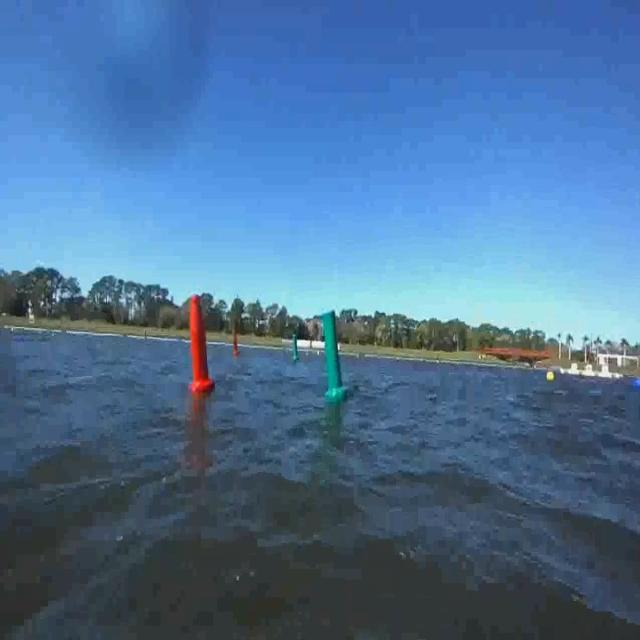blue-buoy: (632, 377, 640, 394)
green-column-buoy: (319, 308, 348, 402), (292, 334, 300, 364)
red-column-buoy: (186, 294, 213, 394), (232, 329, 242, 357)
yellow-buoy: (548, 368, 557, 383)
